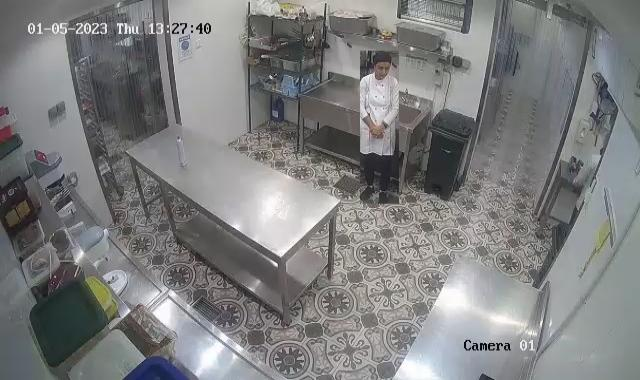no_hairnet: (372, 52, 394, 72)
